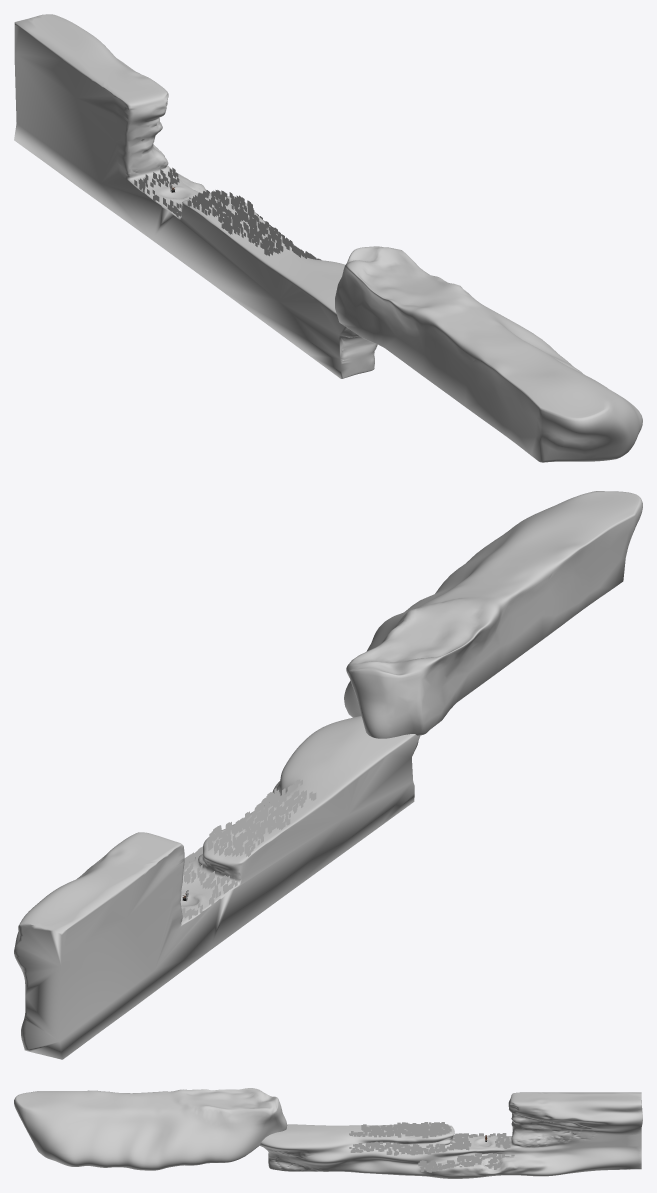
Rendered from forest.fbx.
3 views of the same model, one above another, from view 1: azimuth 30°, elevation 25°; view 2: azimuth 150°, elevation 25°; view 3: azimuth 270°, elevation 25° (orthographic). The views are drawn at different scales.
Visible parts, largest first — view 1: Ground, Ground02, Grass01; view 2: Ground, Ground02, Grass01; view 3: Ground, Ground02, Grass01.
Boxes of the visible parts, <box> form: Ground: <box>14,14,377,378</box>; Ground02: <box>335,246,642,462</box>; Grass01: <box>134,167,321,260</box>; Ground: <box>14,716,420,1059</box>; Ground02: <box>344,491,642,738</box>; Grass01: <box>181,779,316,919</box>; Ground: <box>260,1092,642,1178</box>; Ground02: <box>14,1088,287,1170</box>; Grass01: <box>349,1122,514,1172</box>.
Bounding box in the file's own units: 3755 × 3347 × 25940.
